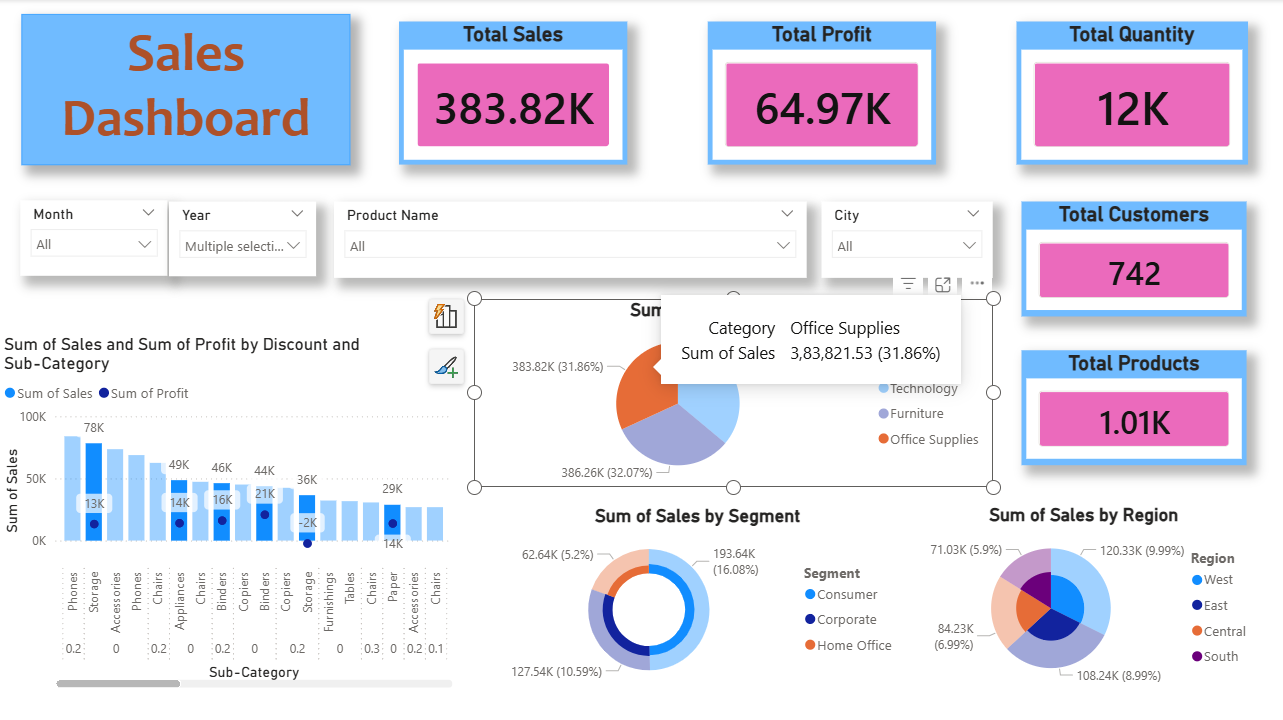

This screenshot's page, from the dashboard's own definition file:
{"tool":"powerbi","page":{"name":"Page 1","canvas":[1280,720],"ordinal":0},"visuals":[{"type":"textbox","box":[22.5,15,327.5,150],"z":0},{"type":"cardVisual","title":"Total Profit","fields":{"Data":["Sales Overview Data xlsx - Sales Data.Total profit"]},"box":[705,22.5,227.5,142.5],"z":1000},{"type":"cardVisual","title":"Total Customers","fields":{"Data":["Sales Overview Data xlsx - Sales Data.Total Customers"]},"box":[1018,202,224,114],"z":2000},{"type":"slicer","fields":{"Values":["Sales Overview Data xlsx - Sales Data.Order Date.Variation.Date Hierarchy.Month"]},"box":[21.7,200,146.7,75],"z":3000},{"type":"slicer","fields":{"Values":["Sales Overview Data xlsx - Sales Data.Order Date.Variation.Date Hierarchy.Year"]},"box":[168.9,201.1,146.7,74.4],"z":4000},{"type":"slicer","fields":{"Values":["Sales Overview Data xlsx - Sales Data.Product Name"]},"box":[334,202,470,76],"z":5000},{"type":"slicer","fields":{"Values":["Sales Overview Data xlsx - Sales Data.City"]},"box":[818,202,170,76],"z":6000},{"type":"cardVisual","title":"Total Sales","fields":{"Data":["Sales Overview Data xlsx - Sales Data.Total Sales"]},"box":[397.5,22.5,227.5,142.5],"z":7000},{"type":"cardVisual","title":"Total Quantity","fields":{"Data":["Sales Overview Data xlsx - Sales Data.Total Quantity"]},"box":[1012.5,22.5,230,142.5],"z":8000},{"type":"cardVisual","title":"Total Products","fields":{"Data":["Count(Sales Overview Data xlsx - Sales Data.Product ID)"]},"box":[1018,350,224,114],"z":9000},{"type":"pieChart","fields":{"Category":["Sales Overview Data xlsx - Sales Data.Category"],"Y":["Sum(Sales Overview Data xlsx - Sales Data.Sales)"]},"box":[472.7,298.6,516.2,187.8],"z":10000},{"type":"pieChart","fields":{"Y":["Sum(Sales Overview Data xlsx - Sales Data.Sales)"],"Category":["Sales Overview Data xlsx - Sales Data.Region"]},"box":[902.9,502.9,352.9,187.1],"z":11000},{"type":"donutChart","fields":{"Y":["Sum(Sales Overview Data xlsx - Sales Data.Sales)"],"Category":["Sales Overview Data xlsx - Sales Data.Segment"]},"box":[487.7,503.5,415.5,187.6],"z":12000},{"type":"lineClusteredColumnComboChart","fields":{"Y":["Sum(Sales Overview Data xlsx - Sales Data.Sales)"],"Y2":["Sum(Sales Overview Data xlsx - Sales Data.Profit)"],"Category":["Sales Overview Data xlsx - Sales Data.Discount","Sales Overview Data xlsx - Sales Data.Sub-Category"]},"box":[0,333.4,456.5,357],"z":13000}]}

Visuals, with their boxes in screenshot pixels (x1, y1, x2, y2), scaled from the page's 1280x720 canvas onto the 1283x720 screenshot:
textbox: <bbox>23, 15, 351, 165</bbox>
"Total Profit" cardVisual: <bbox>707, 22, 935, 165</bbox>
"Total Customers" cardVisual: <bbox>1020, 202, 1245, 316</bbox>
slicer - Sales Overview Data xlsx - Sales Data.Order Date.Variation.Date Hierarchy.Month: <bbox>22, 200, 169, 275</bbox>
slicer - Sales Overview Data xlsx - Sales Data.Order Date.Variation.Date Hierarchy.Year: <bbox>169, 201, 316, 276</bbox>
slicer - Sales Overview Data xlsx - Sales Data.Product Name: <bbox>335, 202, 806, 278</bbox>
slicer - Sales Overview Data xlsx - Sales Data.City: <bbox>820, 202, 990, 278</bbox>
"Total Sales" cardVisual: <bbox>398, 22, 626, 165</bbox>
"Total Quantity" cardVisual: <bbox>1015, 22, 1245, 165</bbox>
"Total Products" cardVisual: <bbox>1020, 350, 1245, 464</bbox>
pieChart - Sales Overview Data xlsx - Sales Data.Category x Sum(Sales Overview Data xlsx - Sales Data.Sales): <bbox>474, 299, 991, 486</bbox>
pieChart - Sum(Sales Overview Data xlsx - Sales Data.Sales) x Sales Overview Data xlsx - Sales Data.Region: <bbox>905, 503, 1259, 690</bbox>
donutChart - Sum(Sales Overview Data xlsx - Sales Data.Sales) x Sales Overview Data xlsx - Sales Data.Segment: <bbox>489, 504, 905, 691</bbox>
lineClusteredColumnComboChart - Sum(Sales Overview Data xlsx - Sales Data.Sales) x Sum(Sales Overview Data xlsx - Sales Data.Profit): <bbox>0, 333, 458, 690</bbox>
